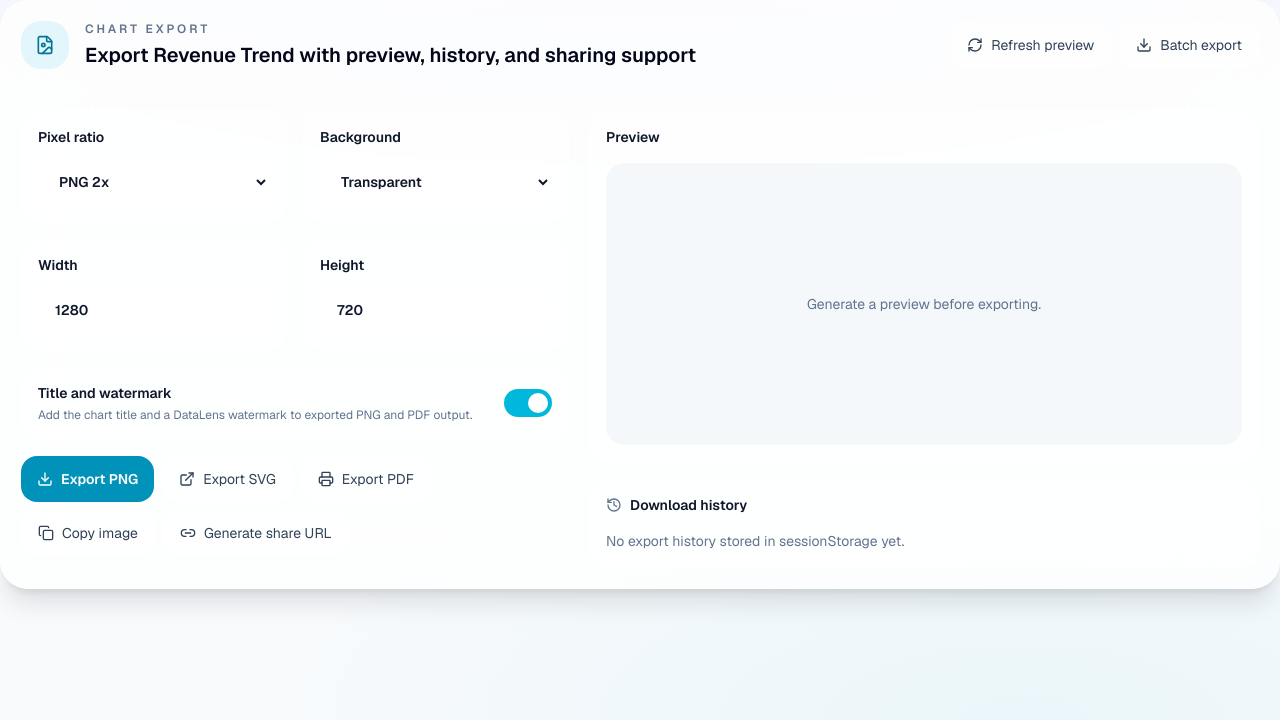
Test: ChartExport › exports SVG and records it in session history
Click the button "Export SVG" at (228, 479), box x1=162 y1=456 x2=293 y2=502
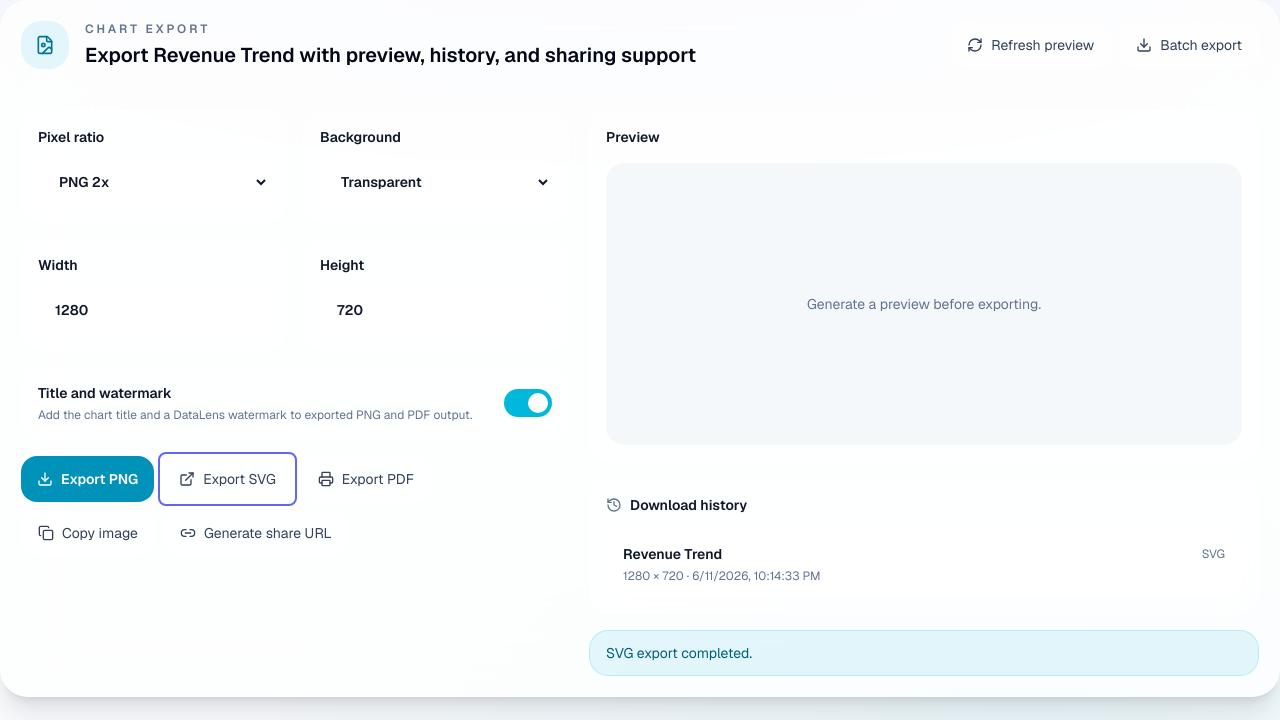
Check: the text "SVG export completed." is shown, box x1=589 y1=630 x2=1259 y2=676
